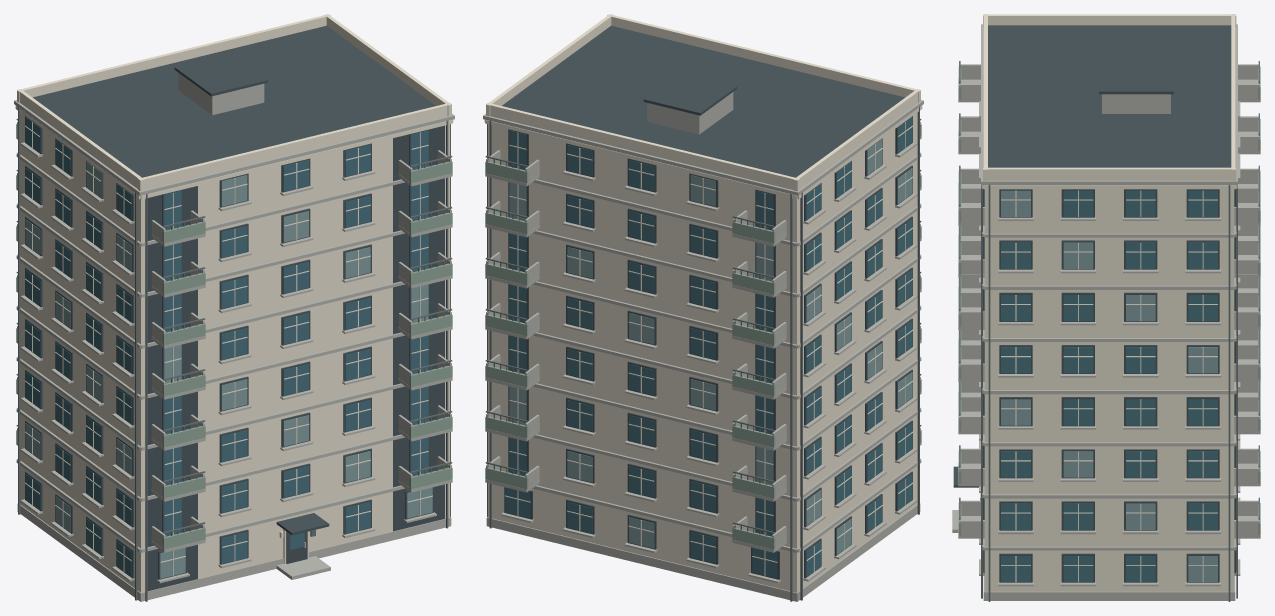
File: DS_House_Modern8.glb
The picture shows the model from 3 angles, left to right: view 1: azimuth 30°, elevation 25°; view 2: azimuth 150°, elevation 25°; view 3: azimuth 270°, elevation 25°; orthographic projection. The views are drawn at different scales.
Visible parts, largest first — view 1: DS_House_Modern8_LOD0; view 2: DS_House_Modern8_LOD0; view 3: DS_House_Modern8_LOD0.
Part boxes in pixels (x1,y1,x2,y2): DS_House_Modern8_LOD0: [14, 14, 454, 601]; DS_House_Modern8_LOD0: [483, 14, 923, 601]; DS_House_Modern8_LOD0: [952, 14, 1260, 601].
Bounding box in the file's own units: 19.62 × 25.62 × 16.08.
